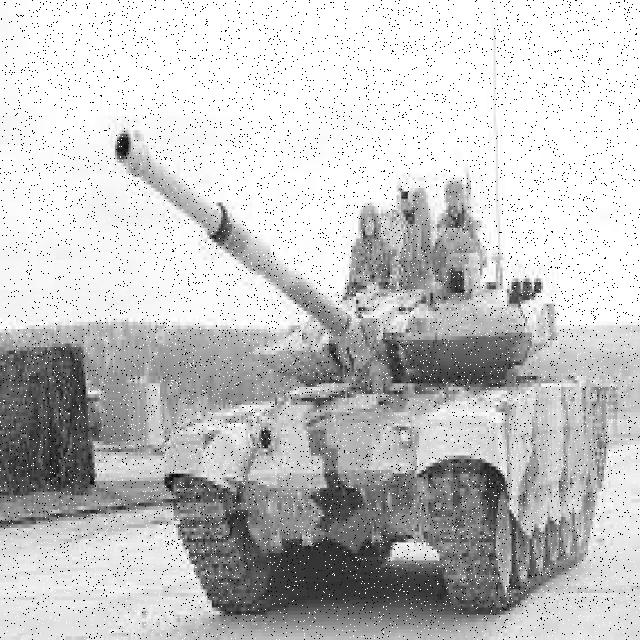MIL_MBT: (160, 223, 606, 613)
